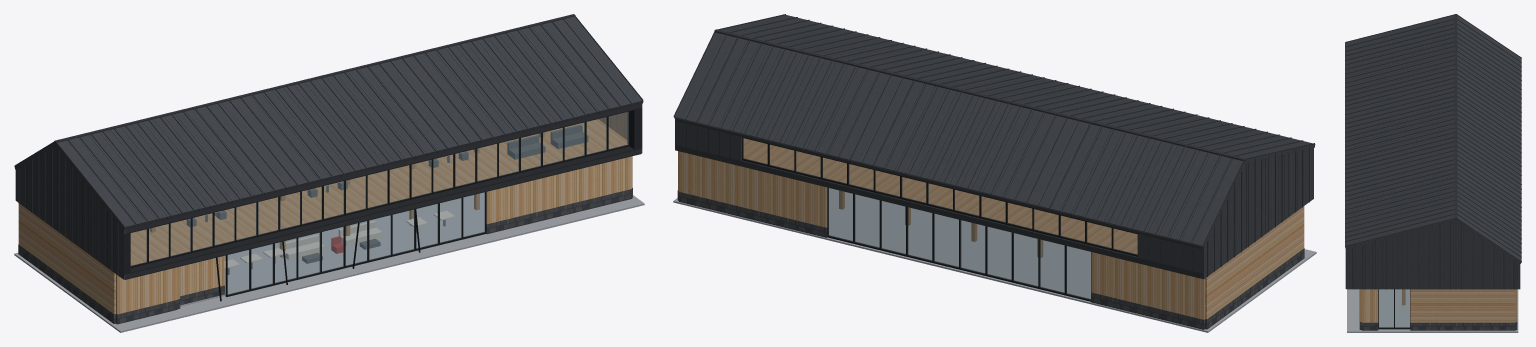
File: ski-summit-chalet.glb
The picture shows the model from 3 angles, left to right: view 1: azimuth 30°, elevation 25°; view 2: azimuth 150°, elevation 25°; view 3: azimuth 270°, elevation 25°; orthographic projection. The views are drawn at different scales.
Visible parts, largest first — view 1: roof-front, upper-front-glass, upper-floor, ground-front-lounge-glass, ground-floor, gable-wall-left, ground-apron, ground-front-wood-right, ground-left-wood-horiz, upper-hood-sill, upper-slab-fascia, upper-front-top-fascia (+11 smaller); view 2: roof-back, roof-front, ground-back-lounge-glass, ground-floor, upper-back-glass, upper-floor, gable-wall-left, ground-back-wood-right, ground-back-wood-left, ground-left-wood-horiz, upper-slab-fascia, ground-apron (+10 smaller); view 3: roof-front, roof-back, gable-wall-right, ground-right-wood-horiz, ground-right-door-glass, ground-apron, ground-floor, plinth-right-back, ridge-cap, ground-right-front-corner, roof-front-seam-0, roof-front-seam-11 (+45 smaller).
Boxes of the visible parts, left/top/right/bottom form: roof-front: left=54, top=16, right=643, bottom=229; upper-front-glass: left=131, top=112, right=628, bottom=265; upper-floor: left=130, top=119, right=627, bottom=265; ground-front-lounge-glass: left=228, top=192, right=484, bottom=294; ground-floor: left=180, top=192, right=484, bottom=306; gable-wall-left: left=15, top=146, right=126, bottom=279; ground-apron: left=14, top=195, right=644, bottom=332; ground-front-wood-right: left=486, top=156, right=631, bottom=224; ground-left-wood-horiz: left=18, top=203, right=115, bottom=314; upper-hood-sill: left=130, top=146, right=634, bottom=273; upper-slab-fascia: left=125, top=149, right=641, bottom=278; upper-front-top-fascia: left=125, top=104, right=641, bottom=233; roof-back: left=673, top=32, right=1244, bottom=247; roof-front: left=720, top=15, right=1315, bottom=163; ground-back-lounge-glass: left=828, top=188, right=1090, bottom=299; ground-floor: left=829, top=188, right=1090, bottom=298; upper-back-glass: left=743, top=138, right=1137, bottom=254; upper-floor: left=743, top=138, right=1137, bottom=253; gable-wall-left: left=1200, top=148, right=1313, bottom=279; ground-back-wood-right: left=678, top=151, right=827, bottom=227; ground-back-wood-left: left=1091, top=252, right=1204, bottom=319; ground-left-wood-horiz: left=1205, top=206, right=1304, bottom=319; upper-slab-fascia: left=676, top=145, right=1202, bottom=278; ground-apron: left=673, top=198, right=1316, bottom=332; roof-front: left=1345, top=15, right=1456, bottom=248; roof-back: left=1455, top=15, right=1521, bottom=264; gable-wall-right: left=1346, top=221, right=1520, bottom=289; ground-right-wood-horiz: left=1410, top=289, right=1515, bottom=322; ground-right-door-glass: left=1379, top=289, right=1409, bottom=327; ground-apron: left=1347, top=289, right=1518, bottom=332; ground-floor: left=1379, top=289, right=1409, bottom=327; plinth-right-back: left=1410, top=322, right=1515, bottom=330; ridge-cap: left=1454, top=14, right=1457, bottom=219; ground-right-front-corner: left=1361, top=289, right=1378, bottom=322; roof-front-seam-0: left=1345, top=14, right=1455, bottom=42; roof-front-seam-11: left=1345, top=64, right=1455, bottom=92.
Bounding box in the file's own units: 36.4 × 9.39 × 13.21.
13 materials, 5 textured.
